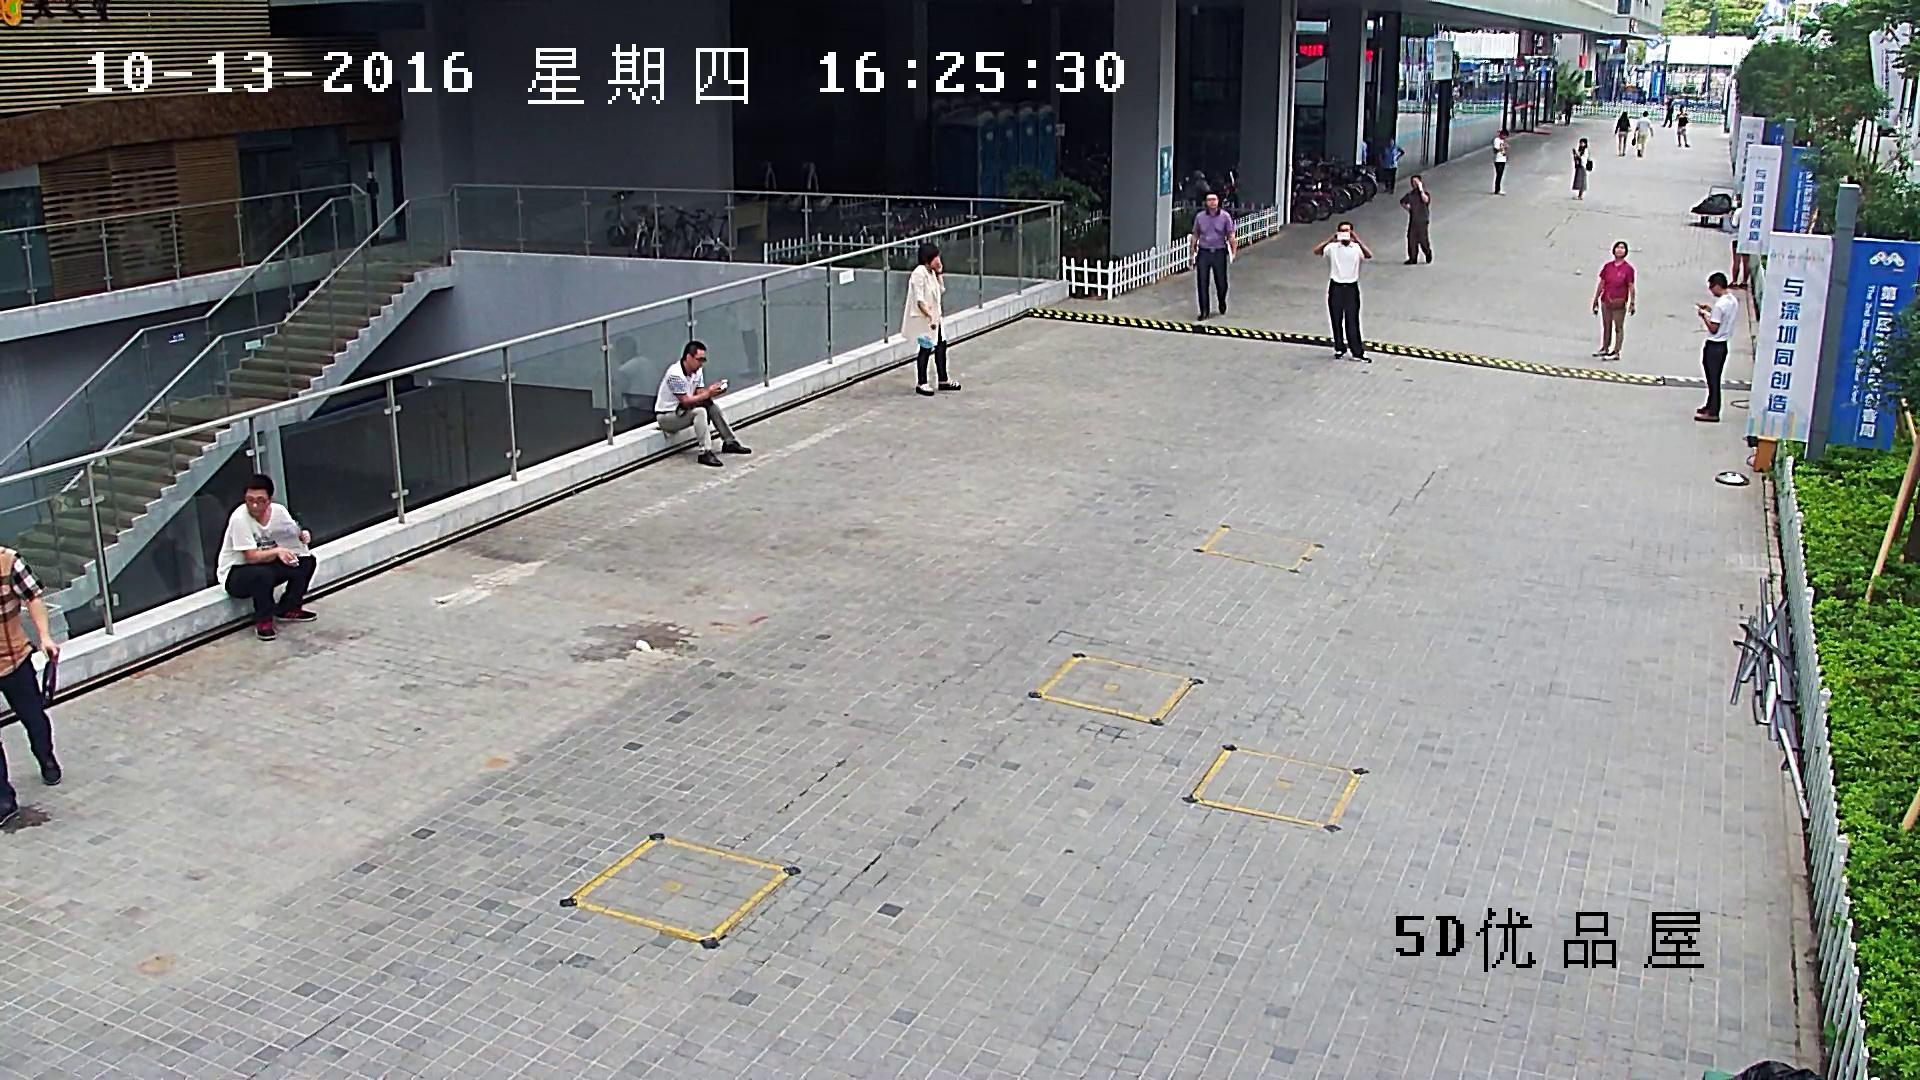person: (216, 473, 317, 641), (0, 545, 62, 786), (654, 340, 751, 467), (900, 242, 961, 396), (1313, 221, 1372, 364), (152, 488, 227, 596), (1693, 271, 1736, 422), (1188, 192, 1237, 322), (1592, 240, 1635, 361), (1399, 174, 1432, 265), (1728, 192, 1750, 290), (1379, 136, 1403, 194), (1571, 137, 1592, 198), (1492, 128, 1508, 194), (1631, 111, 1653, 157), (1614, 111, 1630, 156), (1676, 106, 1689, 147), (1662, 99, 1673, 127), (1564, 105, 1570, 125)
